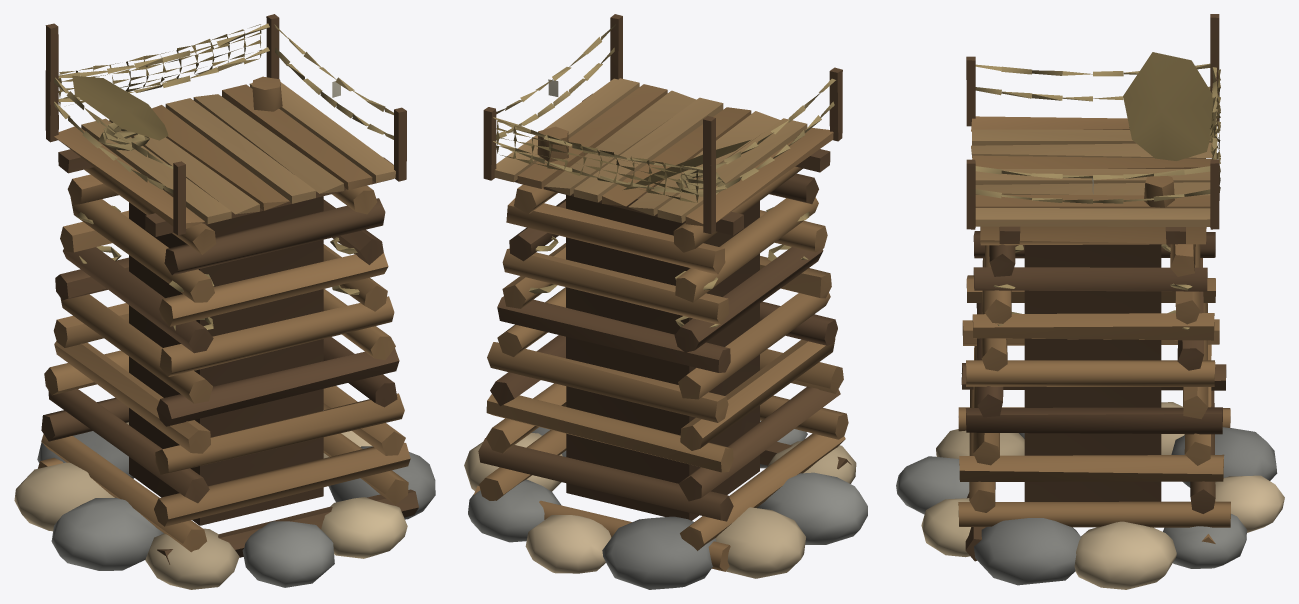
Rendered from lookout_deck_b_lod2.glb.
3 renders of one model, left to right at view 1: azimuth 30°, elevation 25°; view 2: azimuth 150°, elevation 25°; view 3: azimuth 270°, elevation 25°, orthographic. The views are drawn at different scales.
Parts seen in each view (by area): view 1: Surface.001; view 2: Surface.001; view 3: Surface.001.
Boxes of the visible parts, x1,y1,x2,y2 form: Surface.001: (14,14,435,589); Surface.001: (464,14,867,589); Surface.001: (896,14,1284,589).
Size of the model in its own units: 7.18 by 9.03 by 7.02.
